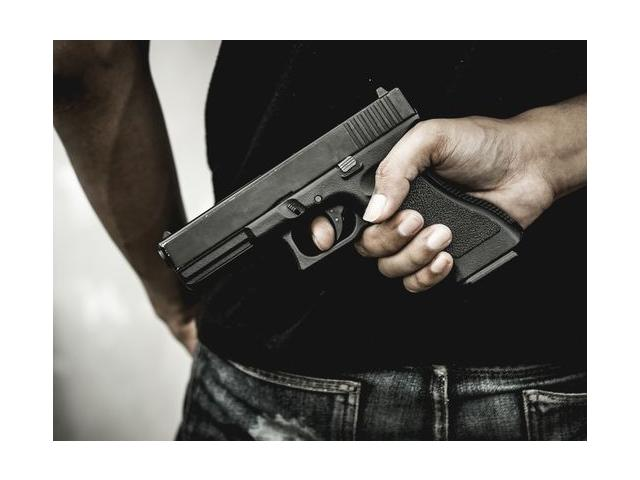pistol: (160, 83, 525, 299)
